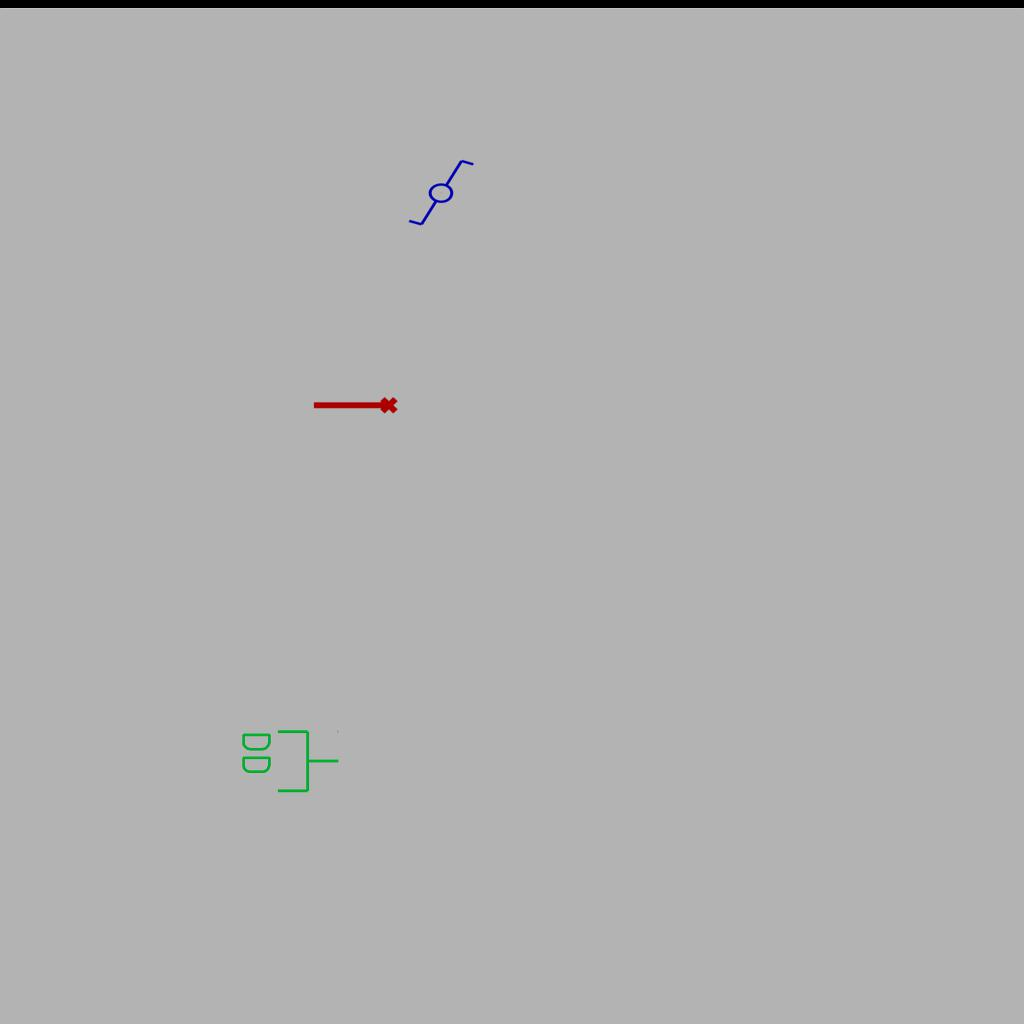ASR_Ansaugoeffnung: (311, 395, 399, 418)
Datenanschluss_zweifach: (238, 726, 341, 795)
Wechselschalter: (398, 156, 476, 228)
